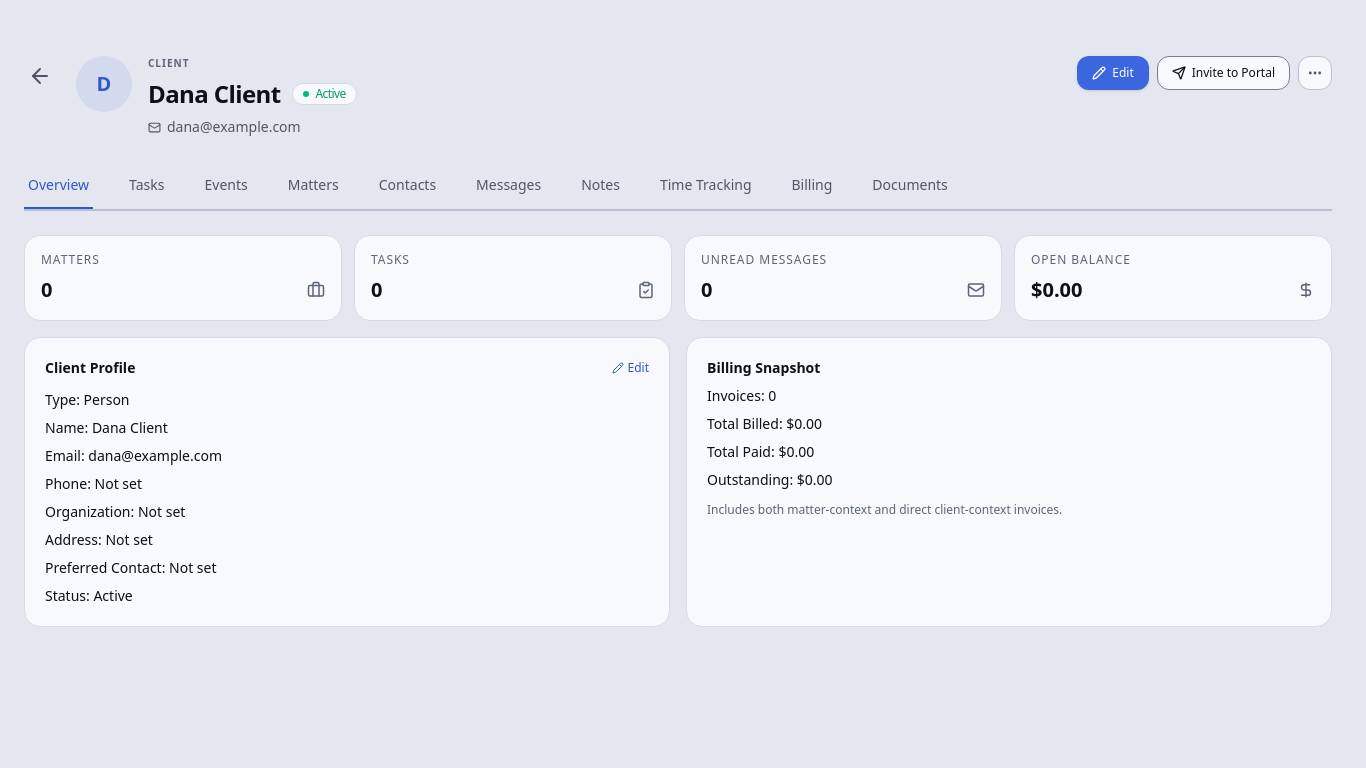
Test: client Billing tab invoice dialog › prints a billed time entry rate as currency
What coordinates should you click on to do the following:
click the button "Billing"
I would click on:
 (812, 186)
Its box is [788,163,836,209].
(page scrolled)
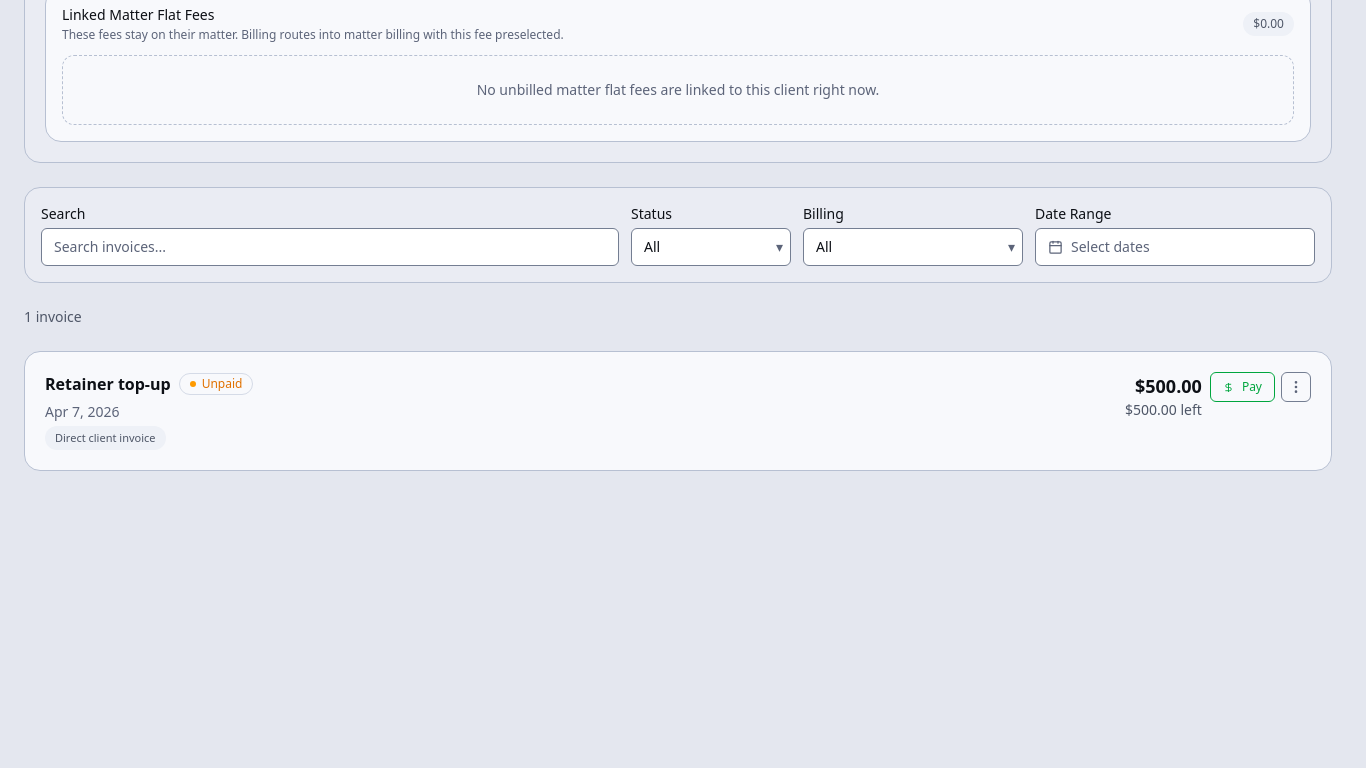
What coordinates should you click on to do the following:
click the text "Retainer top-up"
I would click on:
 (108, 384)
Its box is [45,372,171,396].
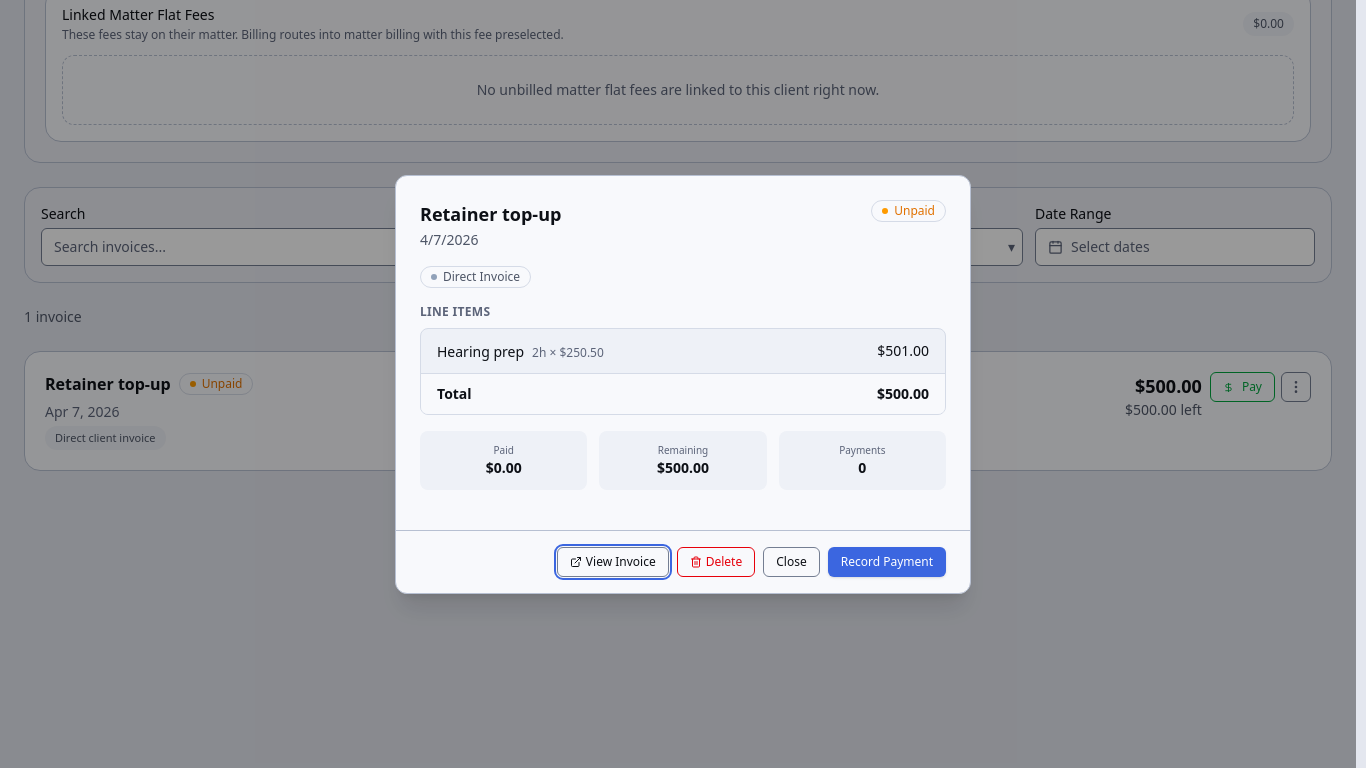
Result: the text "2h × $250.50" is shown at [532,344,604,360]
